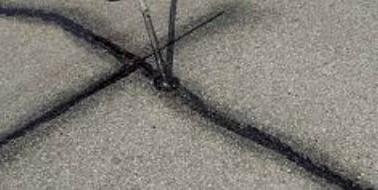crack: (0, 5, 229, 151), (140, 62, 367, 190), (0, 4, 135, 64)
